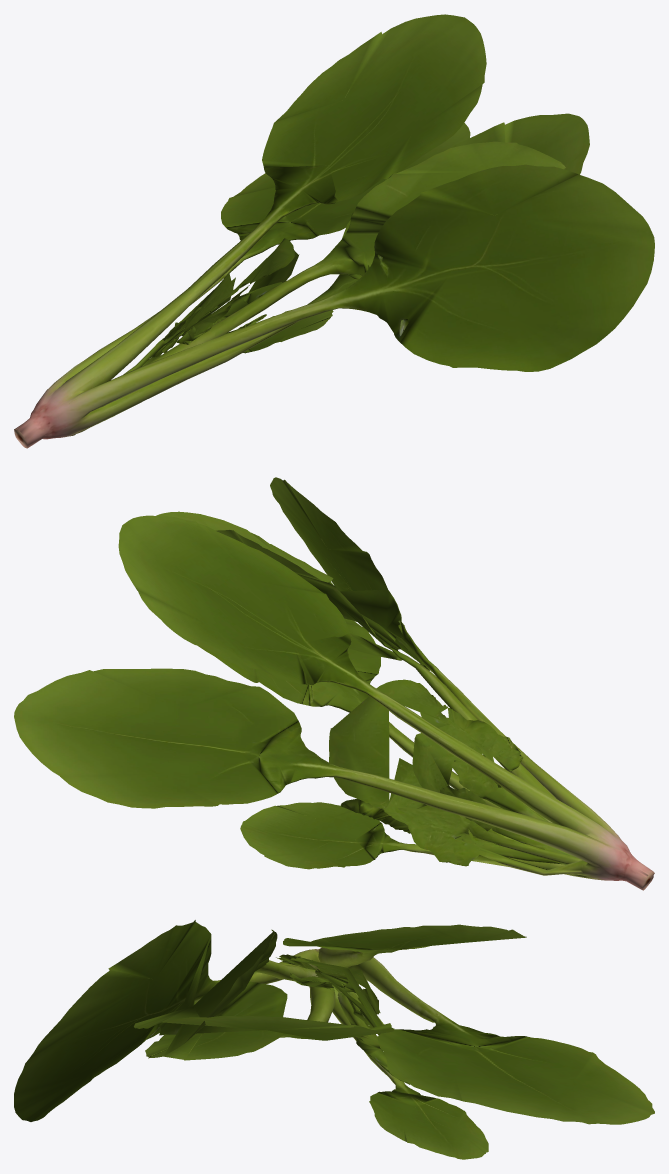
File: optimized_glb.glb
3 views of the same model, one above another, from view 1: azimuth 30°, elevation 25°; view 2: azimuth 150°, elevation 25°; view 3: azimuth 270°, elevation 25° (orthographic). The views are drawn at different scales.
Visible parts, largest first — view 1: Spinach; view 2: Spinach; view 3: Spinach.
Part boxes in pixels (x1,y1,x2,y2): Spinach: (14,14,654,448); Spinach: (14,477,654,890); Spinach: (14,920,654,1159).
Size of the model in its own units: 0.998 by 0.502 by 0.8887.
1 material, 1 textured.
